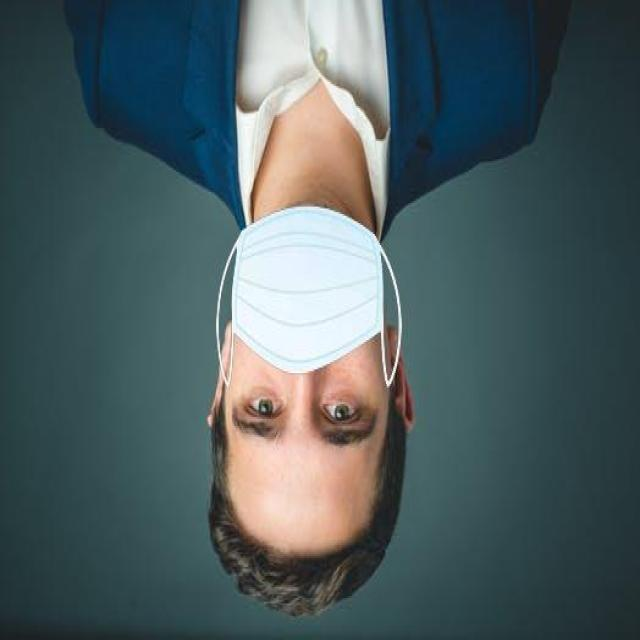Mask: (216, 200, 405, 391)
